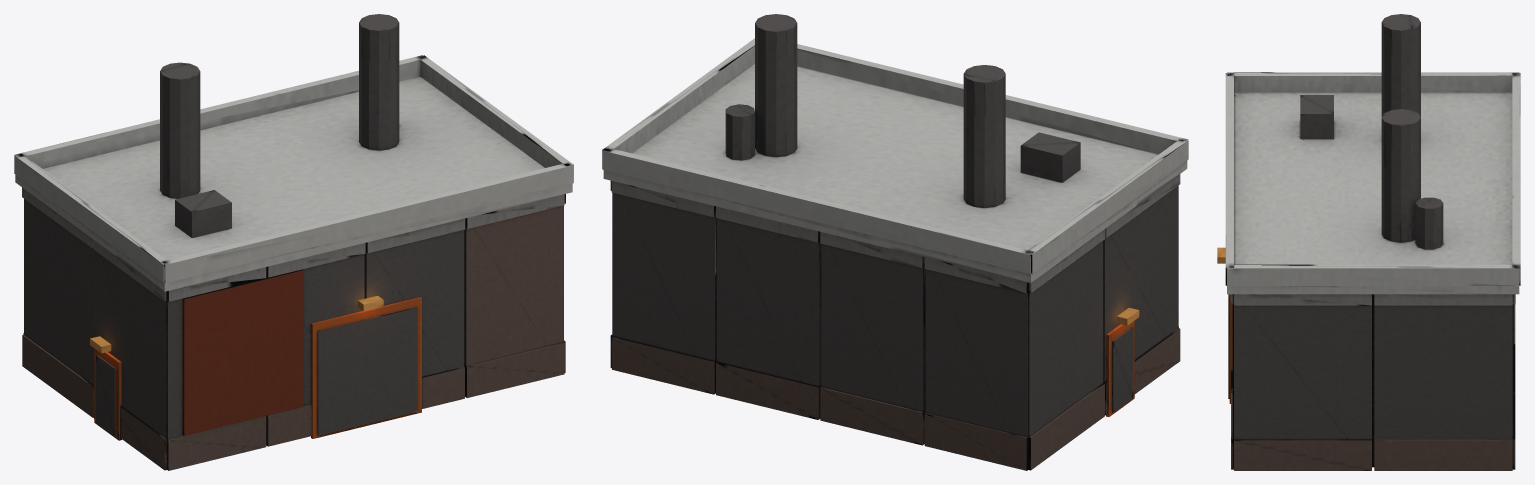
File: B_generator_house.glb
The picture shows the model from 3 angles, left to right: view 1: azimuth 30°, elevation 25°; view 2: azimuth 150°, elevation 25°; view 3: azimuth 270°, elevation 25°; orthographic projection. The views are drawn at different scales.
Parts seen in each view (by area): view 1: Cube; view 2: Cube; view 3: Cube.
Part boxes in pixels (bbox=[...]): Cube: bbox=[14, 14, 573, 470]; Cube: bbox=[602, 14, 1188, 470]; Cube: bbox=[1217, 14, 1520, 470].
Size of the model in its own units: 16.8 by 12.1 by 10.8.
Materials: 1 (1 with a texture image).
